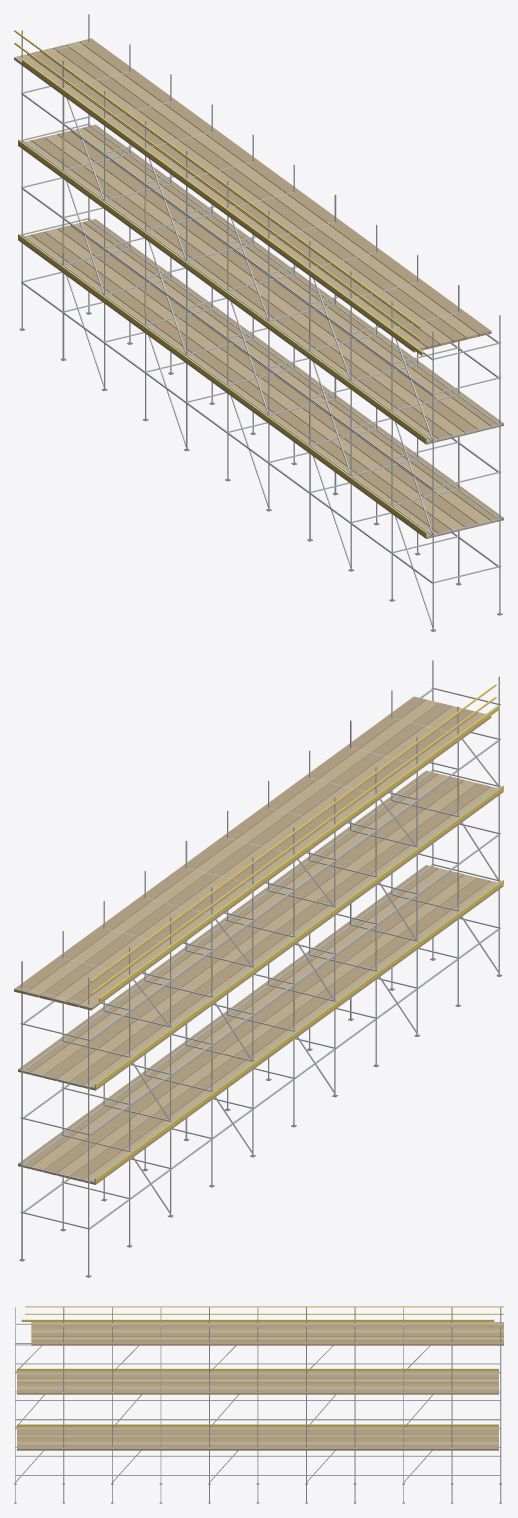
Rendered from ship_scaffold.glb.
3 renders of one model, top to bottom at view 1: azimuth 30°, elevation 25°; view 2: azimuth 150°, elevation 25°; view 3: azimuth 270°, elevation 25°, orthographic. The views are drawn at different scales.
Parts seen in each view (by area): view 1: ss_scaffold_mesh; view 2: ss_scaffold_mesh; view 3: ss_scaffold_mesh.
Boxes of the visible parts, x1,y1,x2,y2 form: ss_scaffold_mesh: (14,14,503,631); ss_scaffold_mesh: (14,660,503,1277); ss_scaffold_mesh: (14,1306,503,1503).
Bounding box in the file's own units: 3.28 × 12.05 × 30.28.
